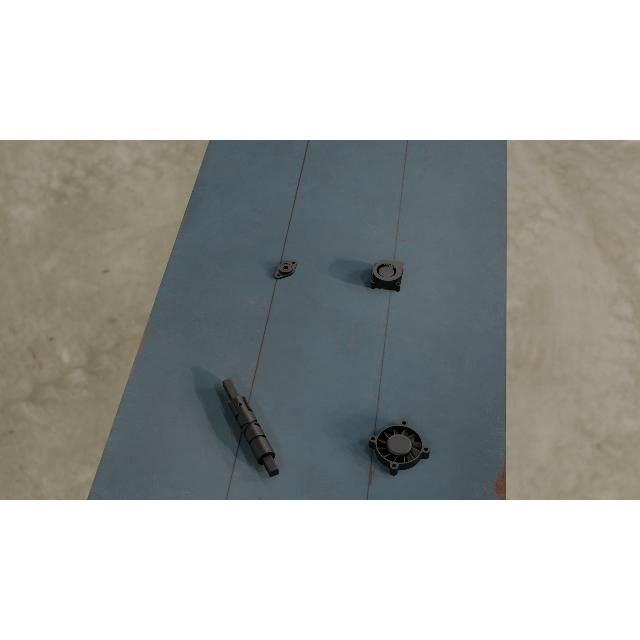Pieza1: (218, 374, 282, 482)
Pieza2: (270, 255, 302, 282)
Pieza3: (370, 259, 404, 293)
Pieza4: (366, 418, 432, 478)
